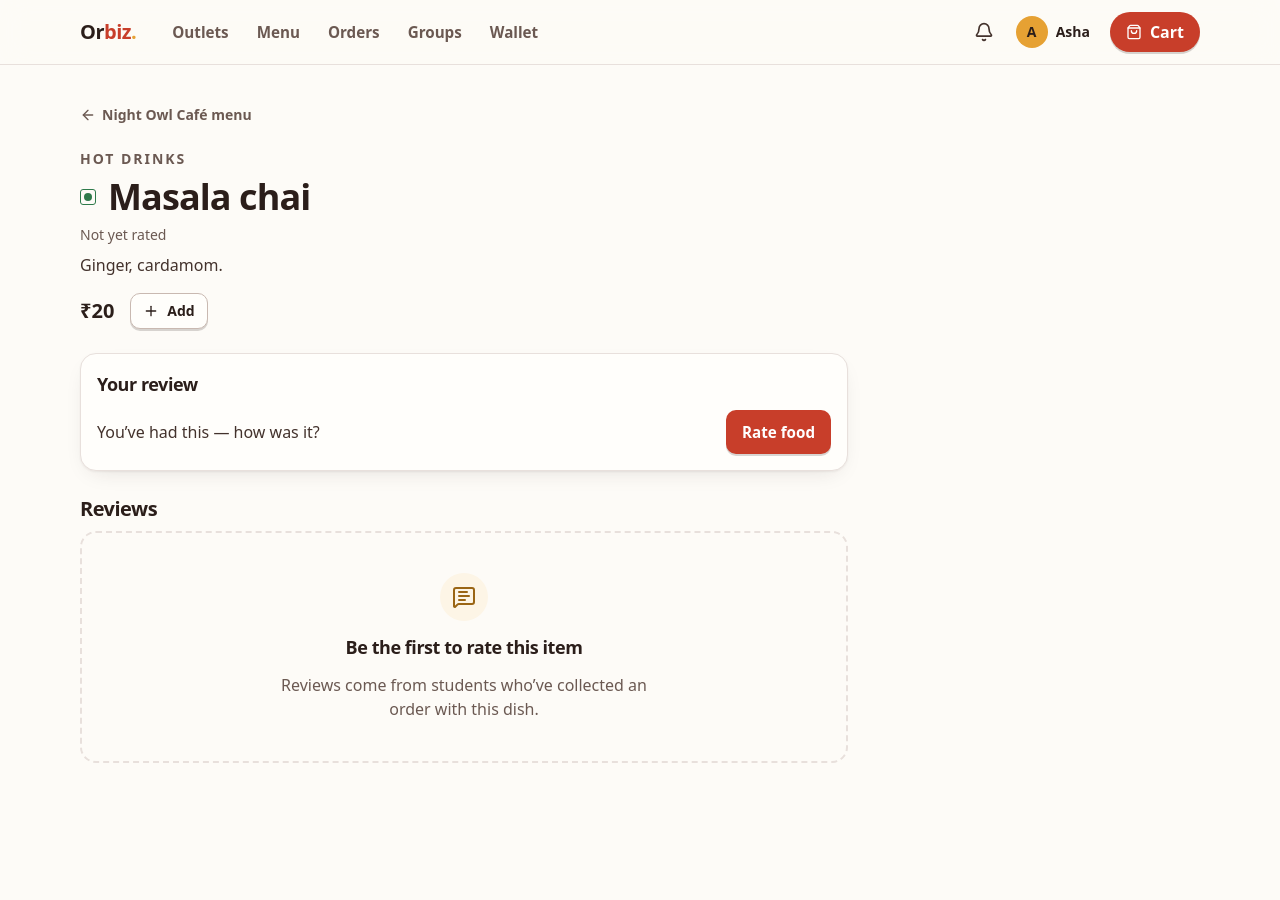
Scenario: writing a review › lets an eligible student rate with stars, feedback and text
Click the button "Rate food": point(778, 432) [726,410,831,454]
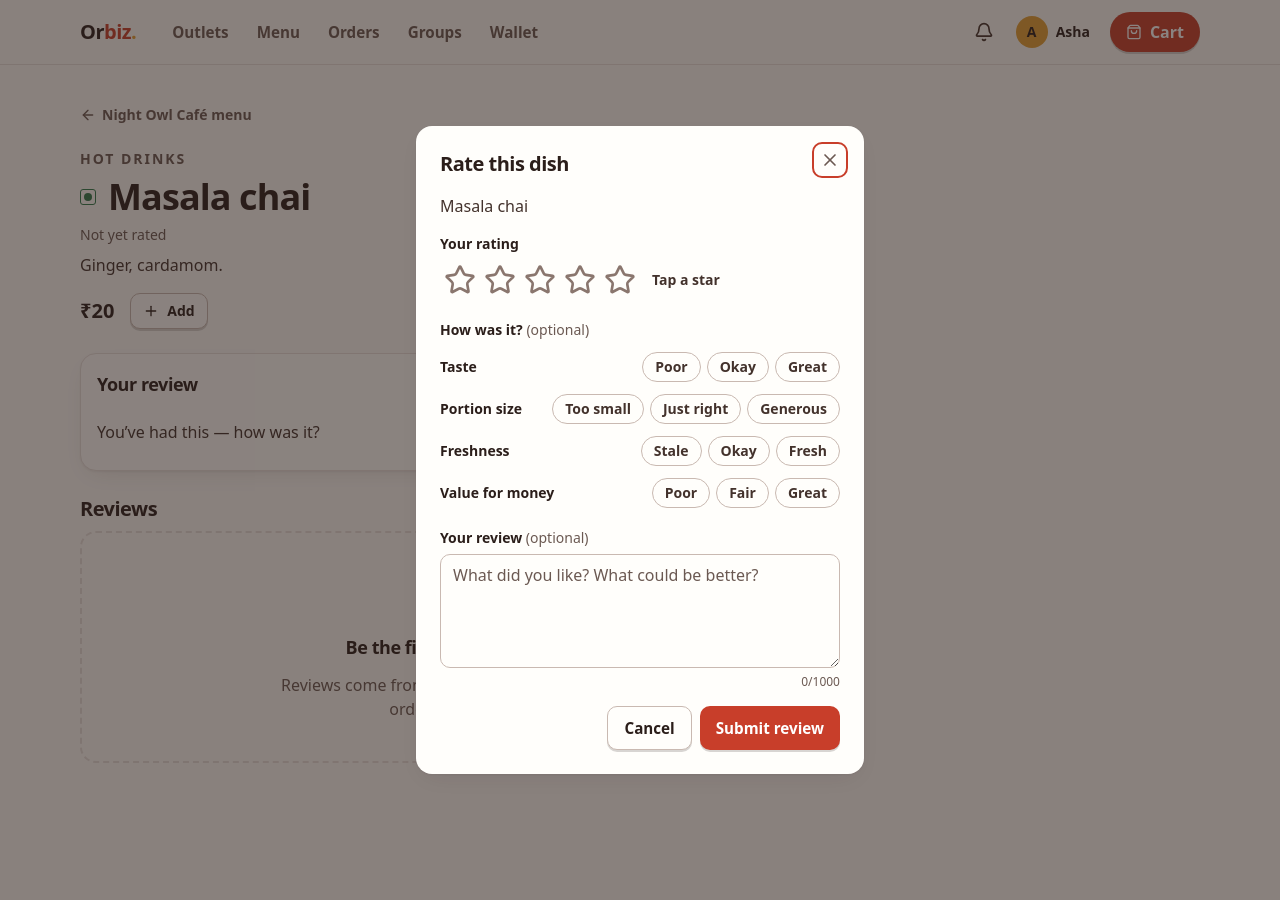
Stars are required.
Click the button "Submit review": point(770, 728) [700,706,840,750]
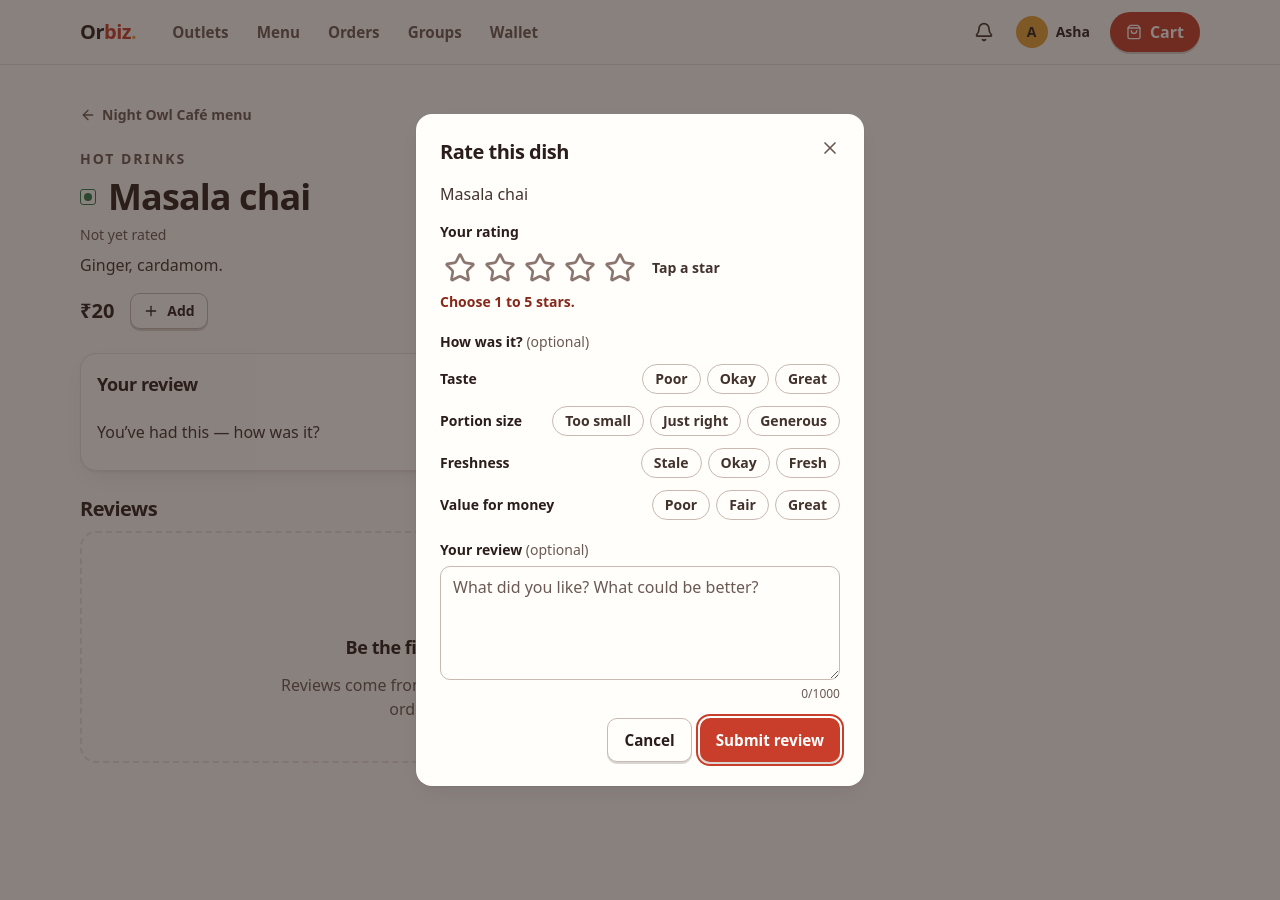
Now the text "Choose 1 to 5 stars." is shown, box [440,292,575,311]
Click the radio button named "4 stars: Good": point(580, 268) [560,248,600,288]
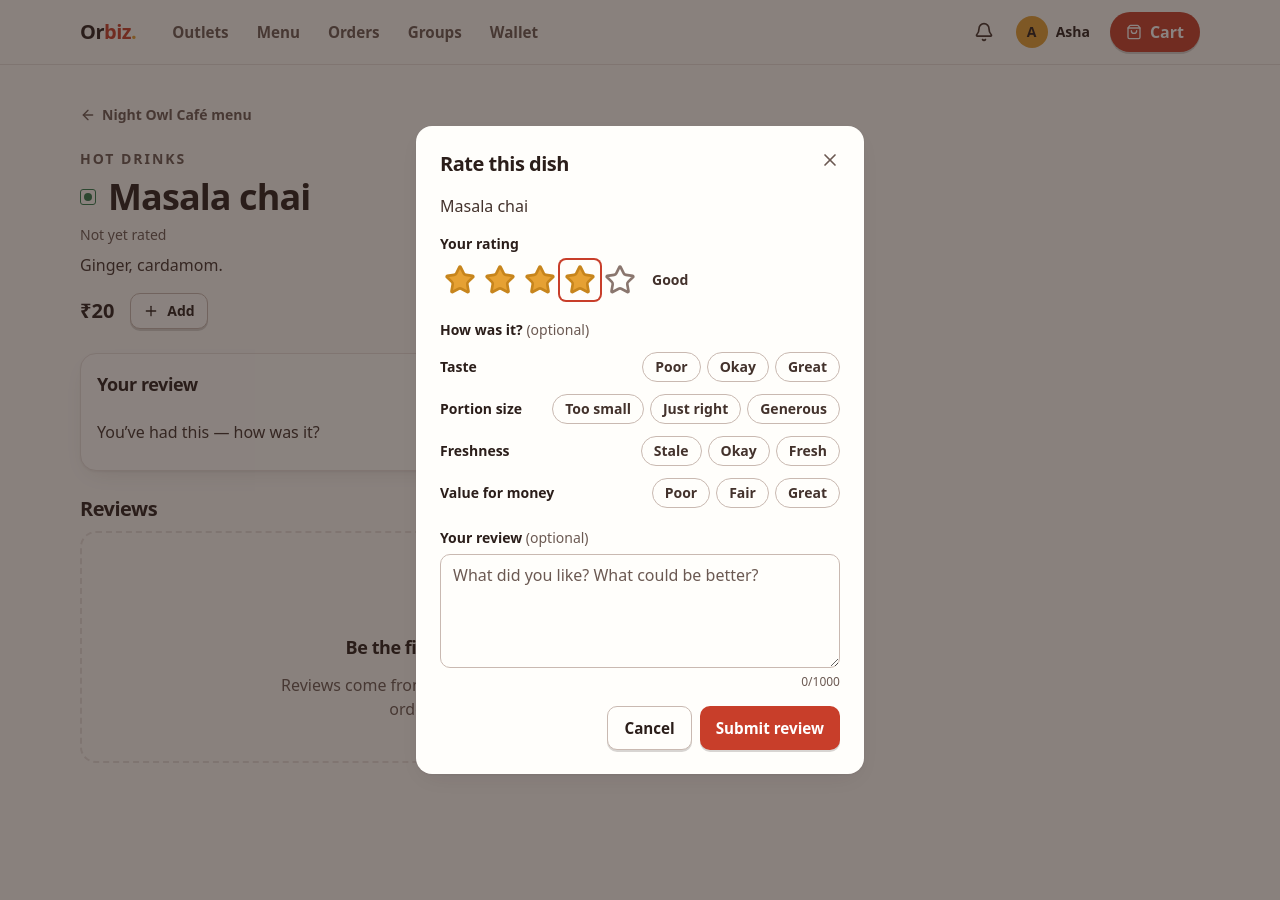
Click the radio button labelled "Great" in the row of "Taste": point(808, 367) [775,352,840,382]
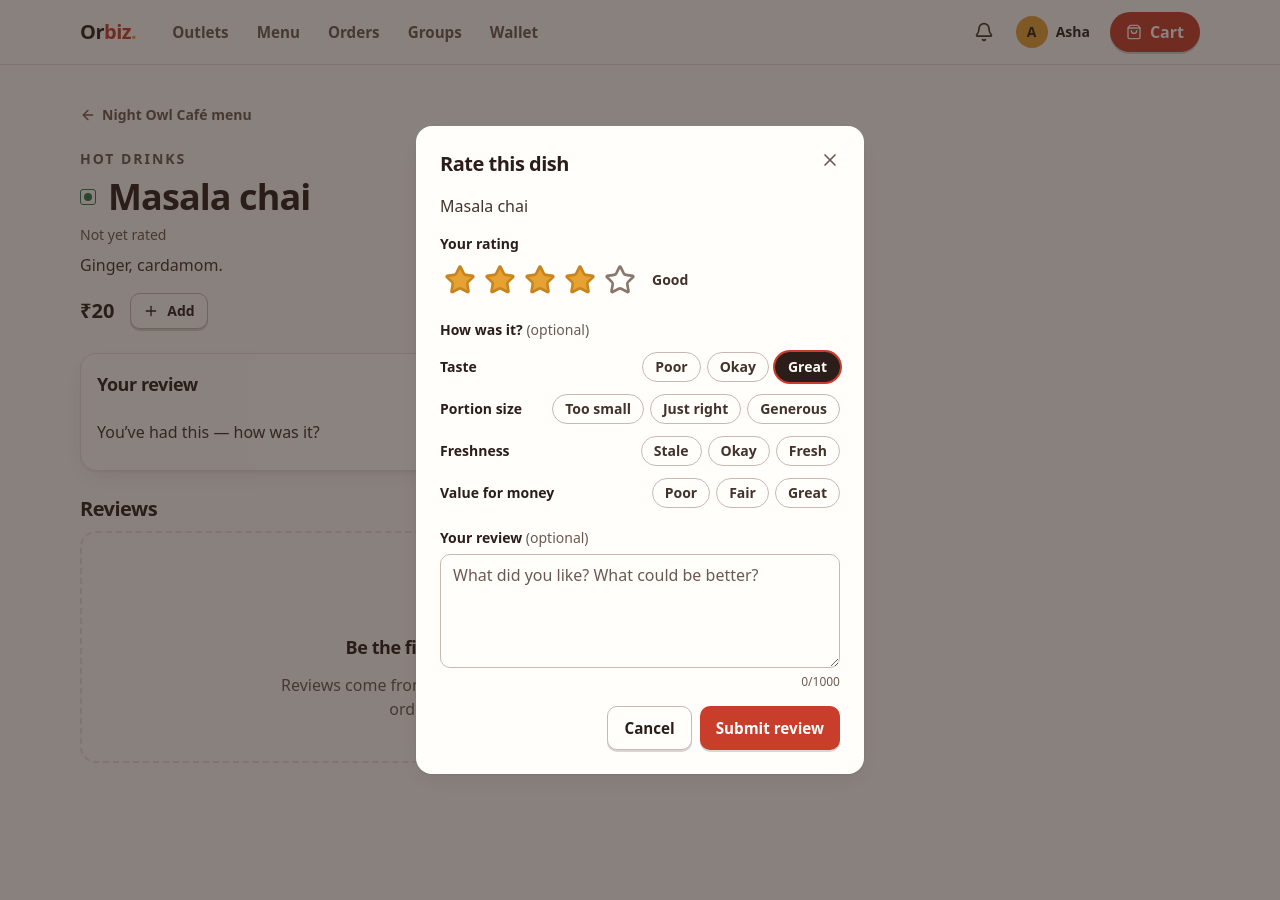
Click the 6th radio button labelled "Generous": point(794, 409) [747,394,840,424]
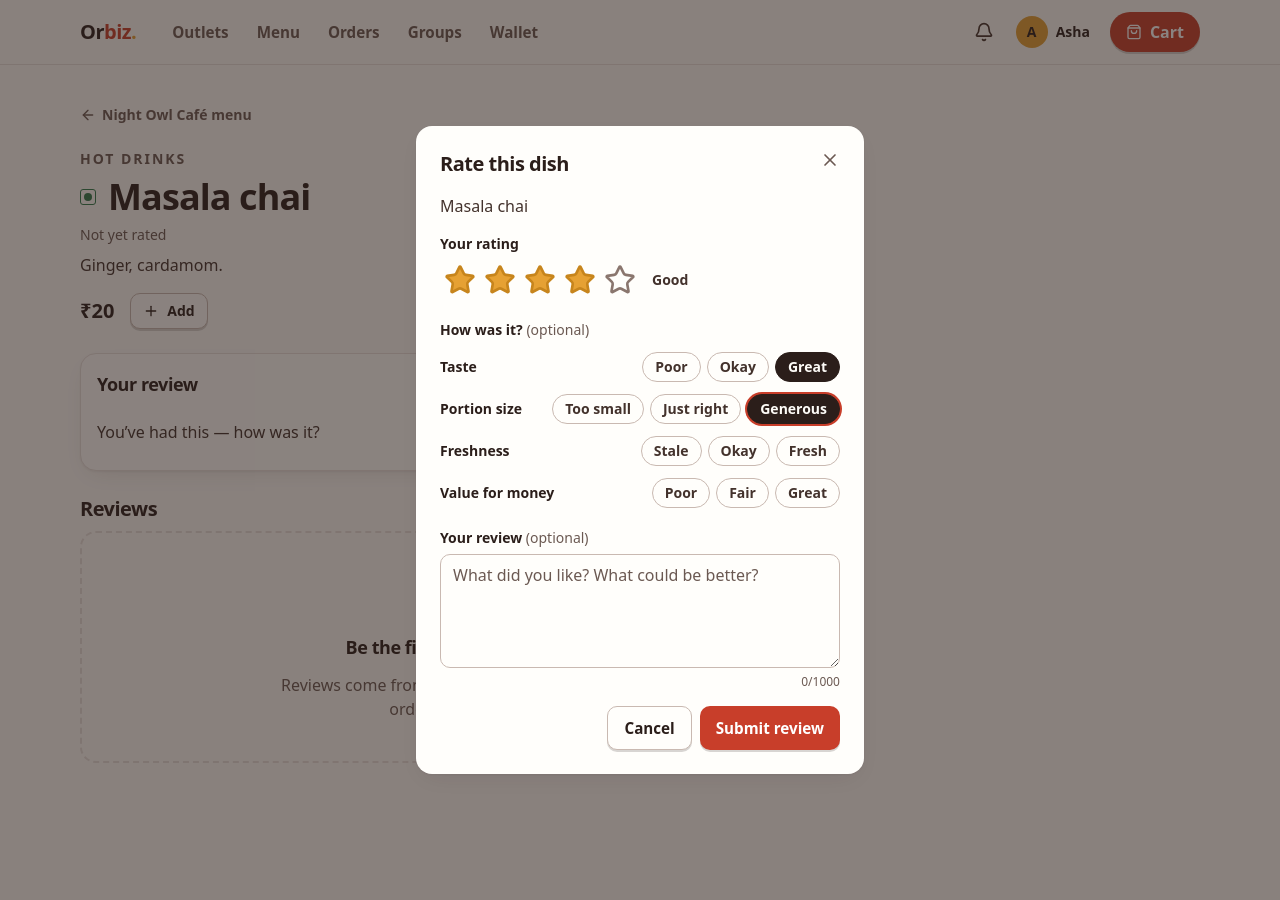
In the text box labelled "Your review (optional)": point(640, 611) [440,554,840,668], type "  Lovely and hot  "
Click the button "Submit review": point(770, 728) [700,706,840,750]
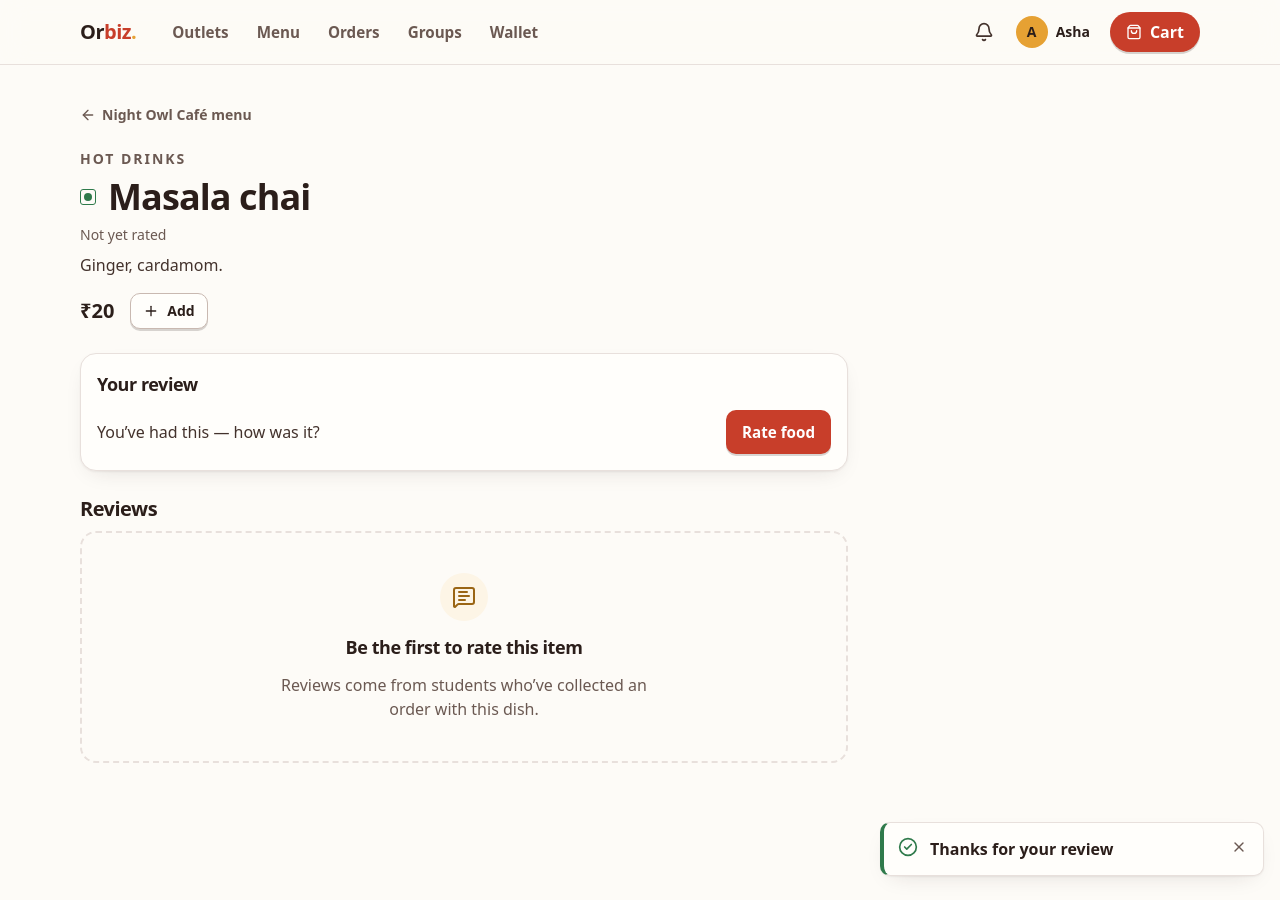
Now the text "Thanks for your review" is shown, box [930,838,1113,860]
